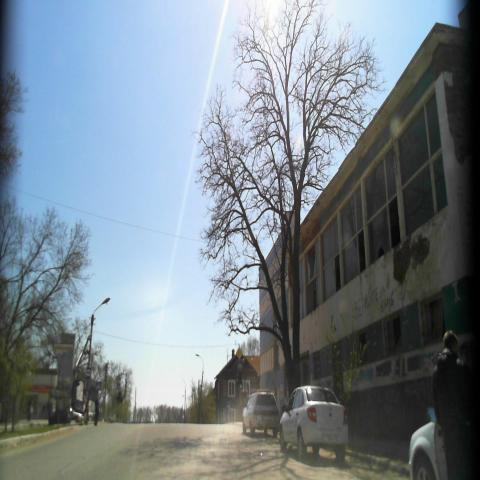2_1: (236, 346, 244, 358)
5_16: (86, 365, 91, 378)
5_19_1: (96, 379, 101, 392)
